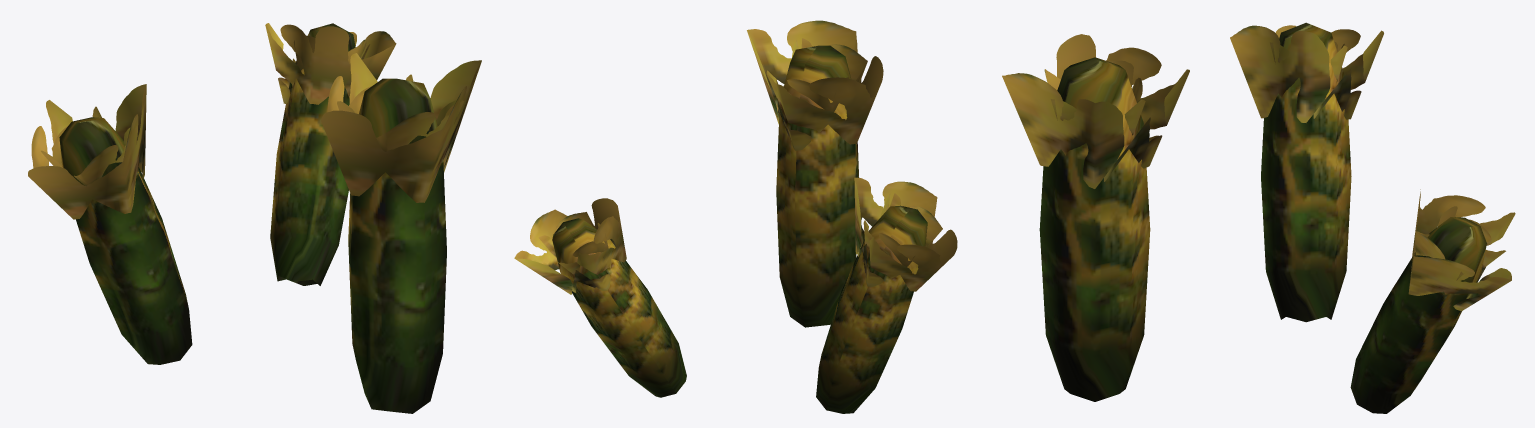
3 renders of one model, left to right at view 1: azimuth 30°, elevation 25°; view 2: azimuth 150°, elevation 25°; view 3: azimuth 270°, elevation 25°, orthographic. The views are drawn at different scales.
Parts seen in each view (by area): view 1: Object03; view 2: Object03; view 3: Object03.
Part boxes in pixels (left/top/right/bottom): Object03: left=28, top=23, right=481, bottom=413; Object03: left=514, top=20, right=957, bottom=413; Object03: left=1002, top=22, right=1515, bottom=413.
Size of the model in its own units: 181 by 128 by 183.
